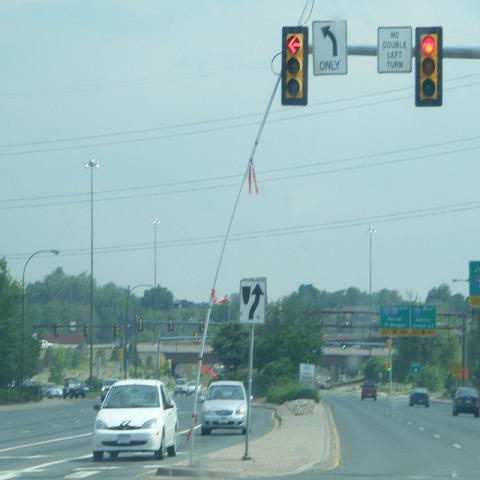car: (91, 379, 178, 462), (200, 379, 249, 434), (452, 386, 479, 417), (61, 377, 88, 399), (409, 387, 430, 407), (101, 378, 117, 402), (41, 383, 63, 399), (360, 382, 378, 401), (188, 379, 202, 396), (174, 379, 188, 395), (318, 379, 332, 390), (10, 380, 21, 390)
